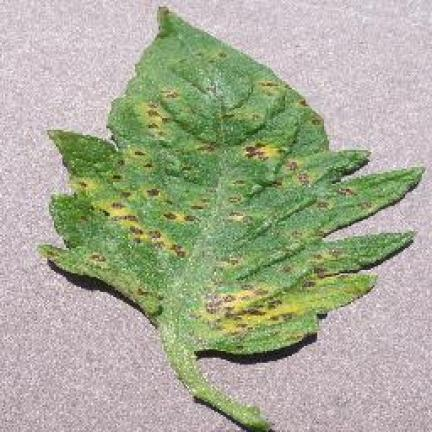disease: (40, 8, 420, 429)
leaf: (206, 294, 221, 309)
